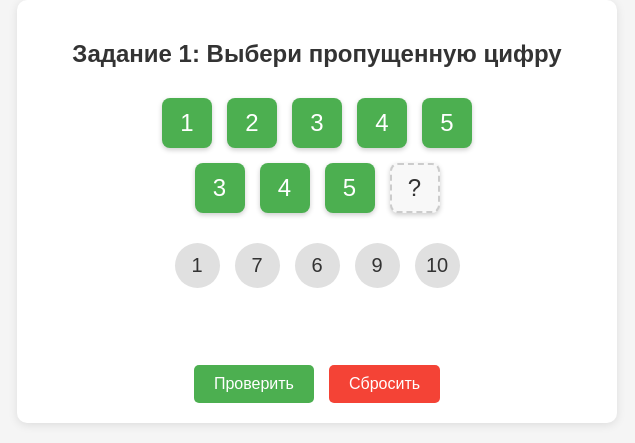
Test: MissingNumberGame › shows error on wrong answer
Click the text with test id "option-7": (257, 265) [234,243,280,288]
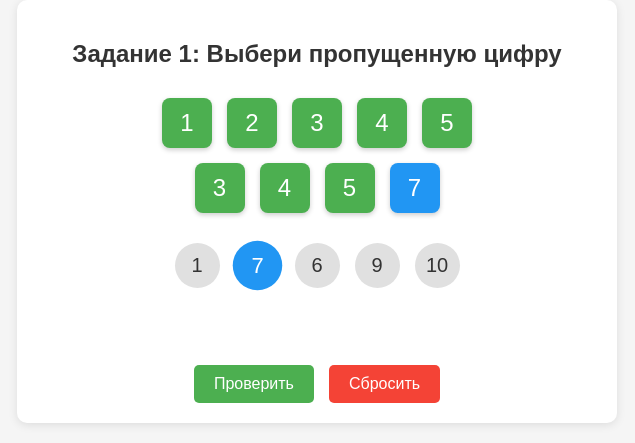
Click the button "Проверить": (254, 384) [194,365,314,403]
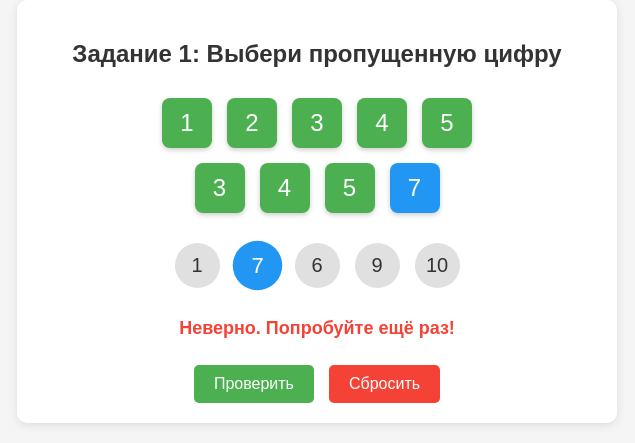
Now the text "Неверно. Попробуйте ещё раз!" is shown, box [179,318,455,338]
